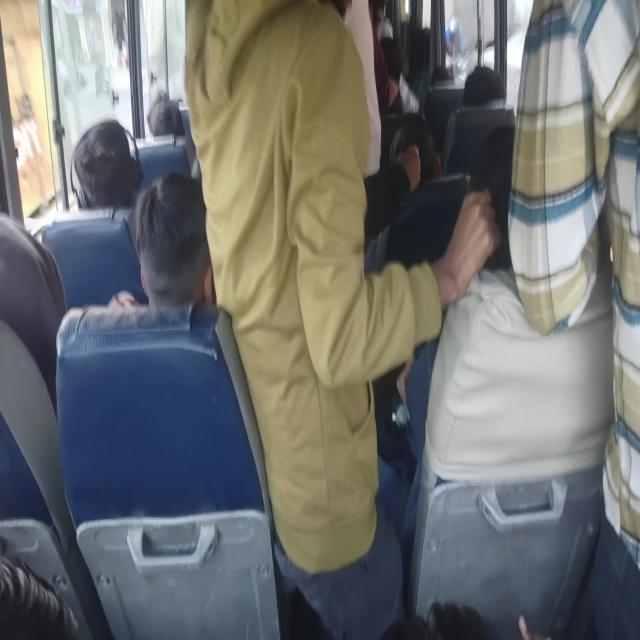person: (511, 13, 640, 640), (180, 0, 379, 364), (470, 131, 552, 264), (20, 190, 70, 390), (138, 178, 213, 292), (67, 114, 135, 204), (454, 55, 520, 135), (366, 26, 411, 133), (394, 124, 455, 202), (134, 77, 190, 127), (432, 56, 467, 110)
